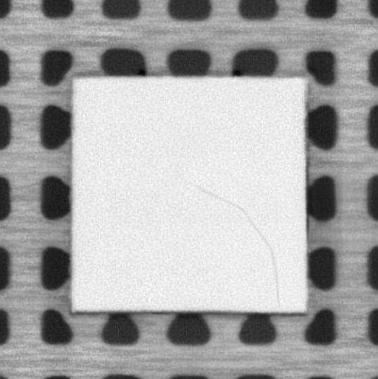DIE_CRACK: (197, 186, 284, 305)
